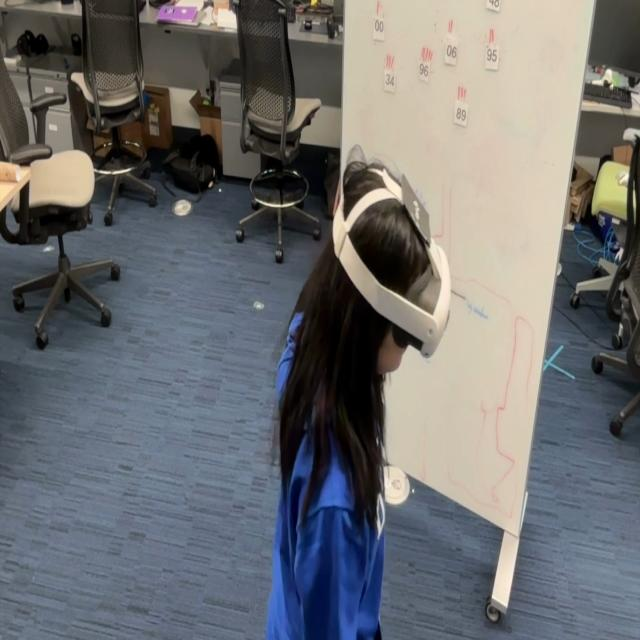Headset: (331, 145, 452, 360)
UnityLogo: (399, 170, 433, 248)
